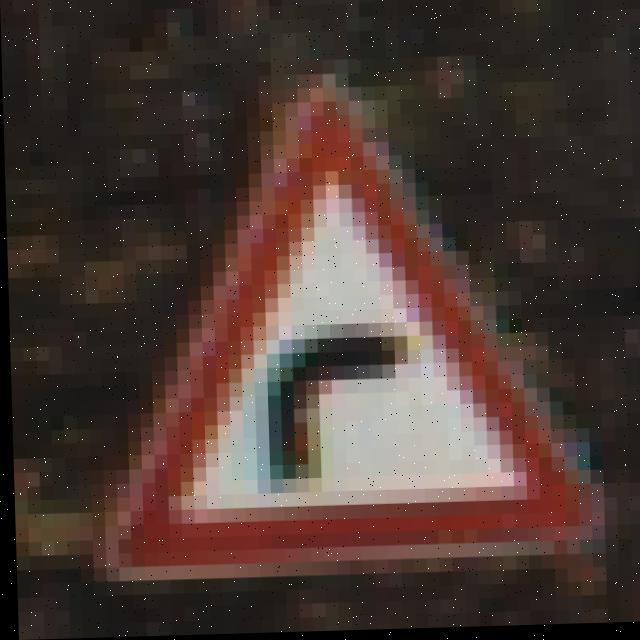right_turn: (132, 75, 567, 565)
